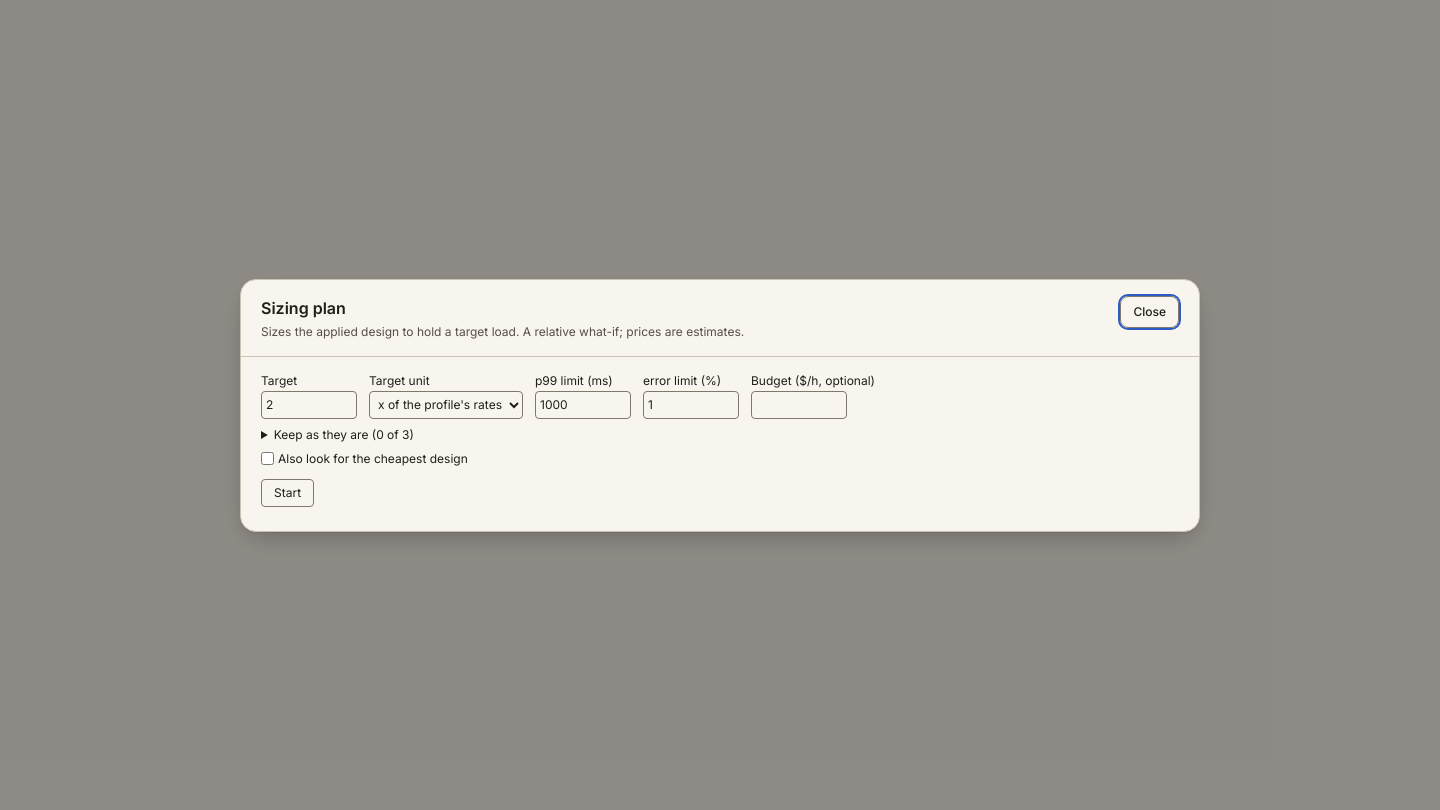
a 409 that waiting will not cure shows its own reason
This screenshot has width=1440, height=810.
Click the button "Start" at (288,492), box x1=261 y1=478 x2=314 y2=506
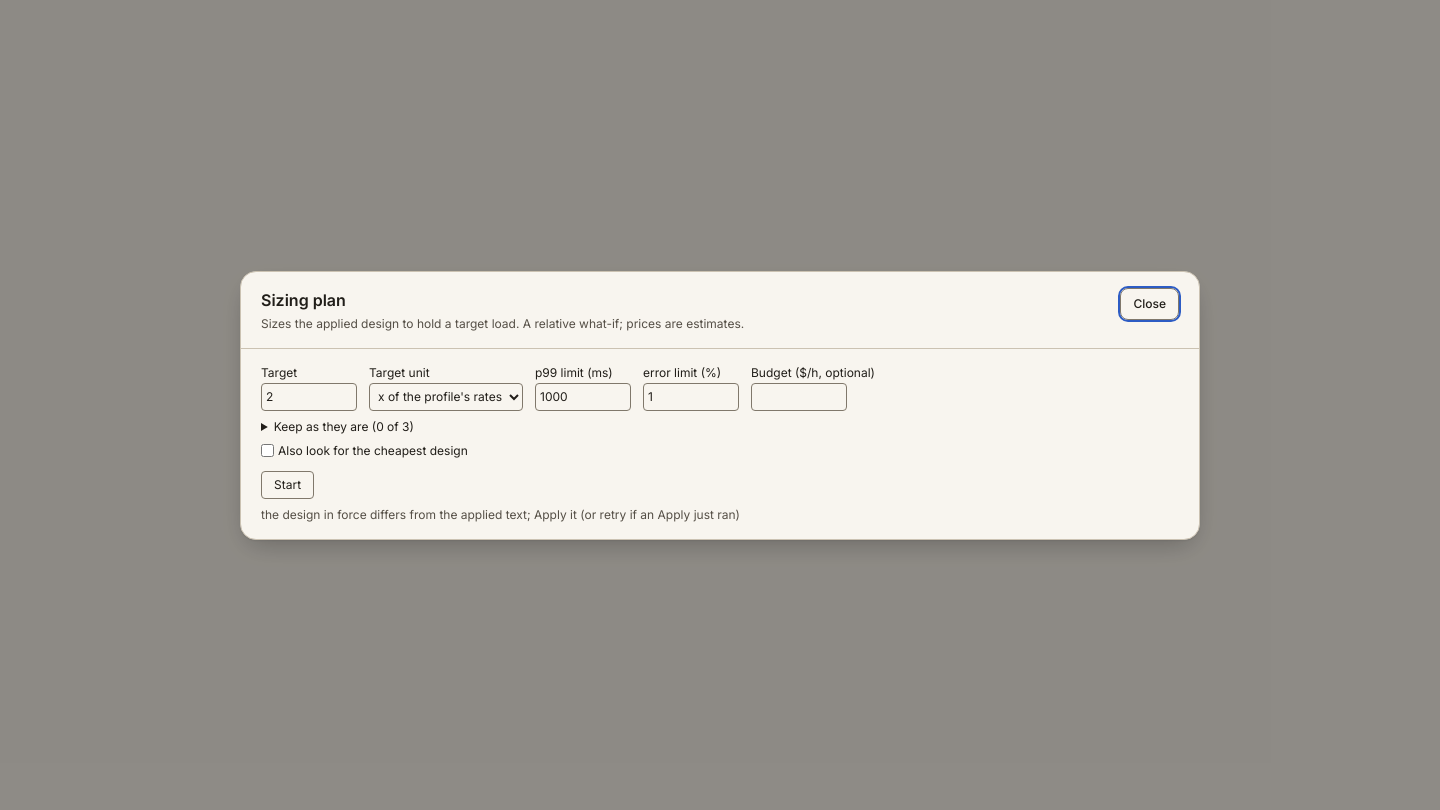
Expected: the text "the design in force differs from the applied text; Apply it (or retry if an Apply just ran)" is shown, x1=261 y1=506 x2=740 y2=522
